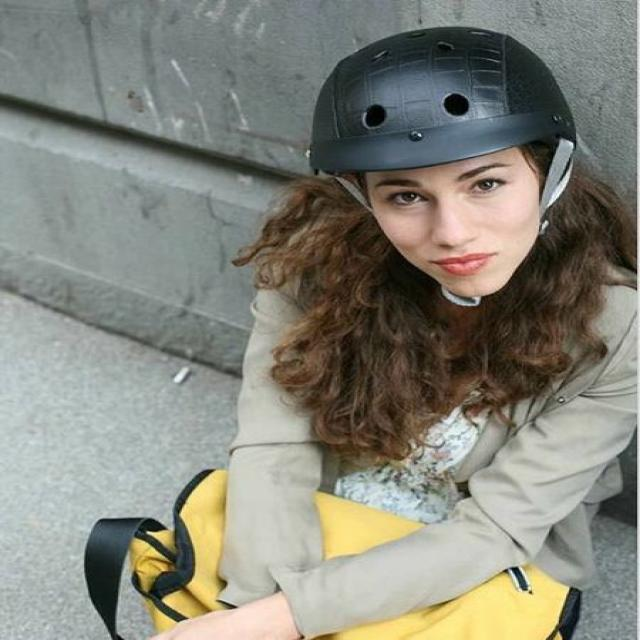helmet: (281, 20, 601, 190)
